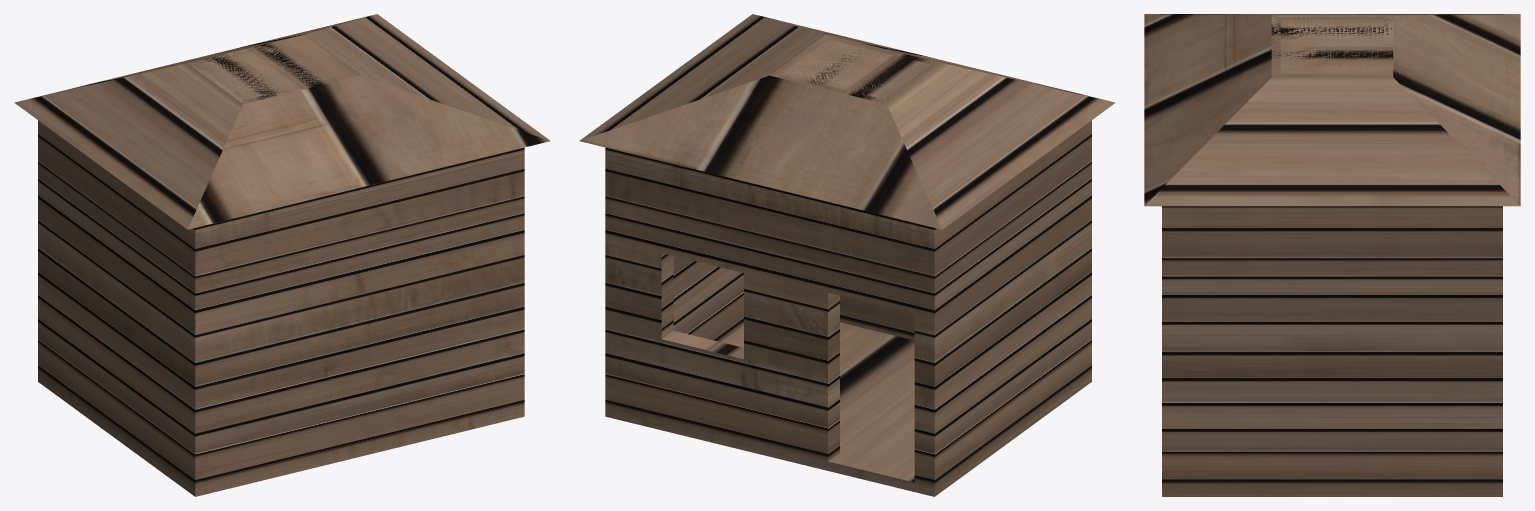
The model's file is Tree House.fbx.
3 views of the same model, side by side, from view 1: azimuth 30°, elevation 25°; view 2: azimuth 150°, elevation 25°; view 3: azimuth 270°, elevation 25° (orthographic). The views are drawn at different scales.
Parts seen in each view (by area): view 1: Cube; view 2: Cube; view 3: Cube.
Part boxes in pixels (x1,y1,x2,y2): Cube: (14, 14, 550, 496); Cube: (579, 14, 1115, 496); Cube: (1144, 14, 1520, 496).
Size of the model in its own units: 1255 by 1095 by 1039.
Materials: 1 (1 with a texture image).
